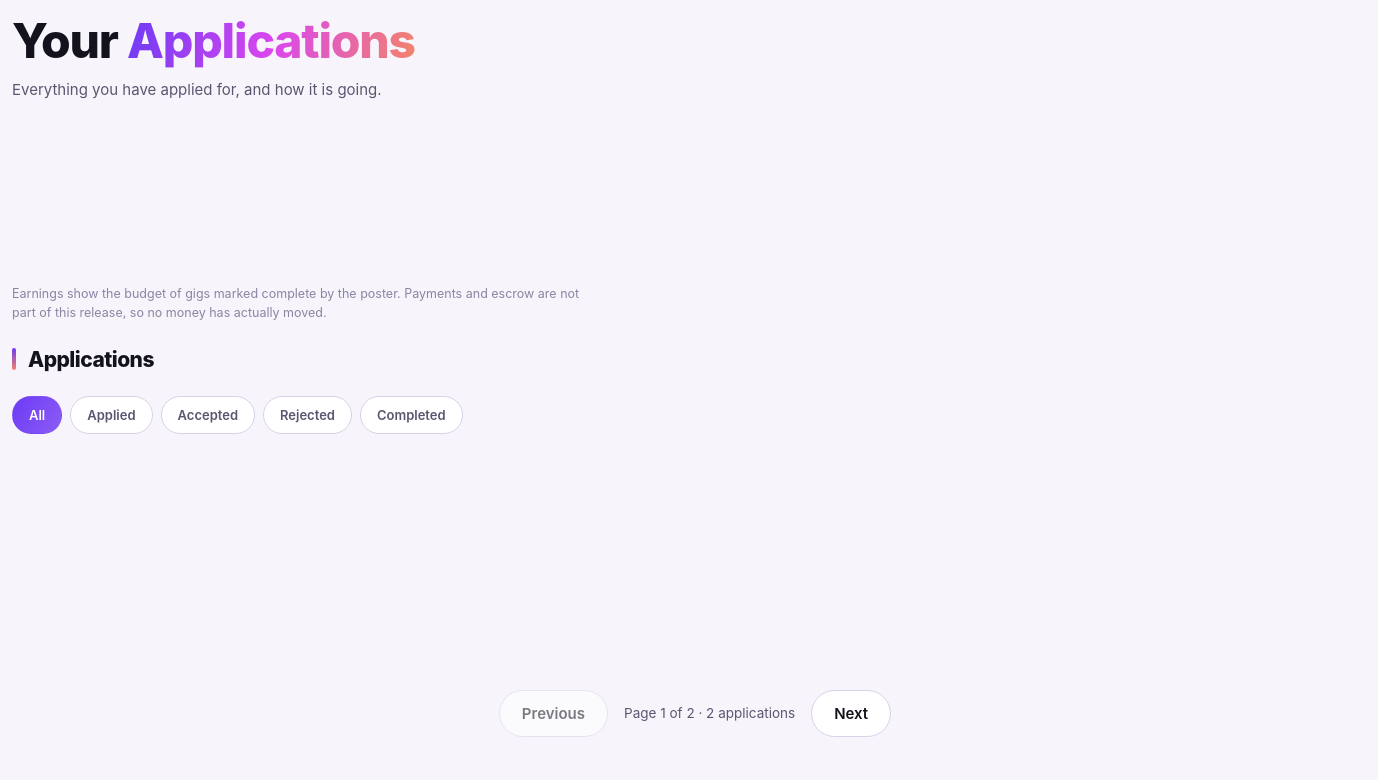
Applied Gigs pagination › requests the next page and keeps the summary visible
Click the button "Next" at (851,714), box [811,690,891,737]
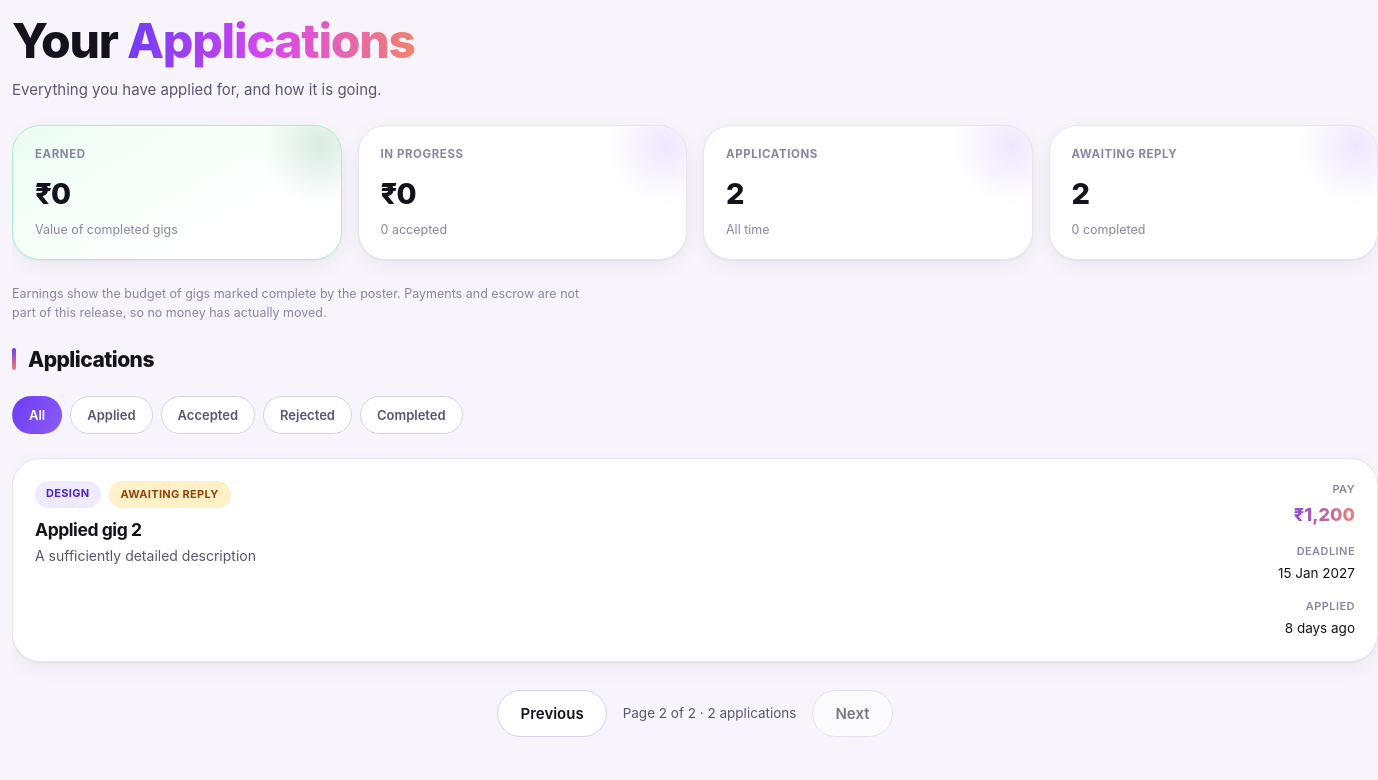
Check: the link "Applied gig 2" is shown, box [35,519,142,540]
